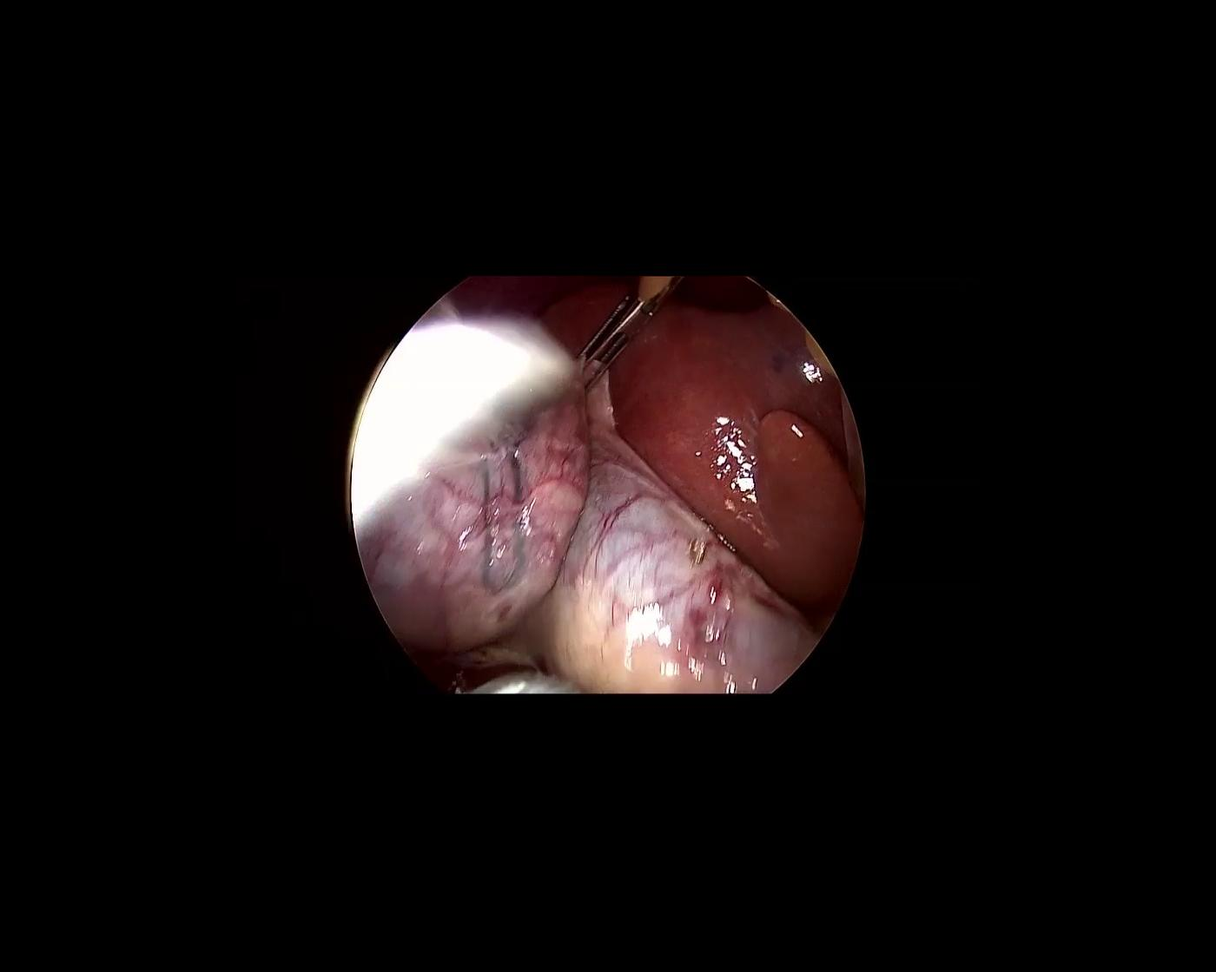Forceps: (561, 253, 686, 393)
Gallbladder: (323, 344, 824, 855)
Liver: (513, 192, 955, 638)
